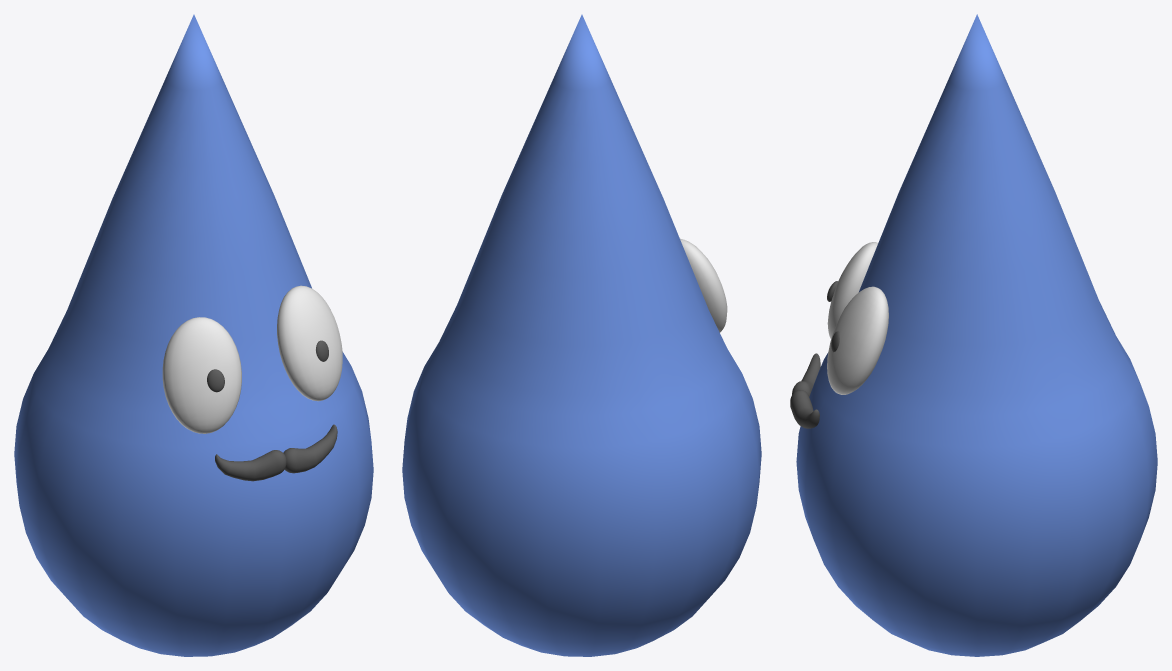
File: Drop.fbx
3 renders of one model, left to right at view 1: azimuth 30°, elevation 25°; view 2: azimuth 150°, elevation 25°; view 3: azimuth 270°, elevation 25°, orthographic.
Parts seen in each view (by area): view 1: polySurface119; view 2: polySurface119; view 3: polySurface119.
Boxes of the visible parts, x1,y1,x2,y2 form: polySurface119: [14, 14, 373, 656]; polySurface119: [402, 14, 761, 656]; polySurface119: [790, 14, 1157, 656].
Size of the model in its own units: 5.13 by 9.84 by 5.22.
